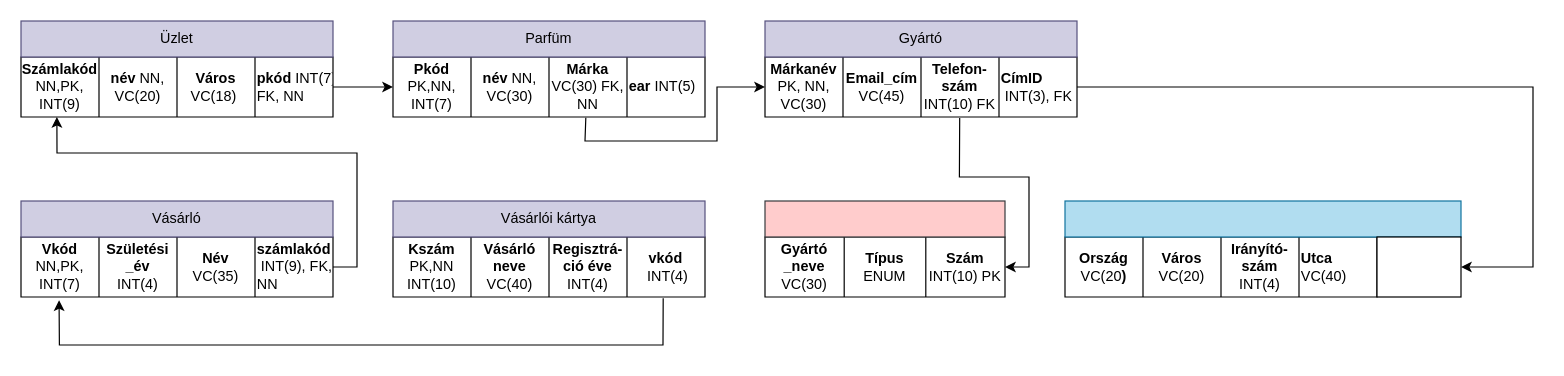
The diagram is 1564 pixels wide and 376 high, and some of its shapes have lost their labels. The centre of each missing label's shape, as x and y in pixels:
Cím: [1262,218]
CímID INT(3) PK: [1418,266]
Telefonszám: [884,218]
